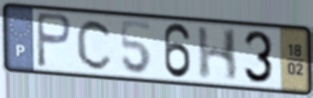3: (241, 28, 278, 86)
5: (119, 16, 154, 77)
6: (162, 22, 193, 81)
C: (75, 17, 115, 72)
H: (195, 26, 240, 84)
P: (34, 10, 74, 71)
